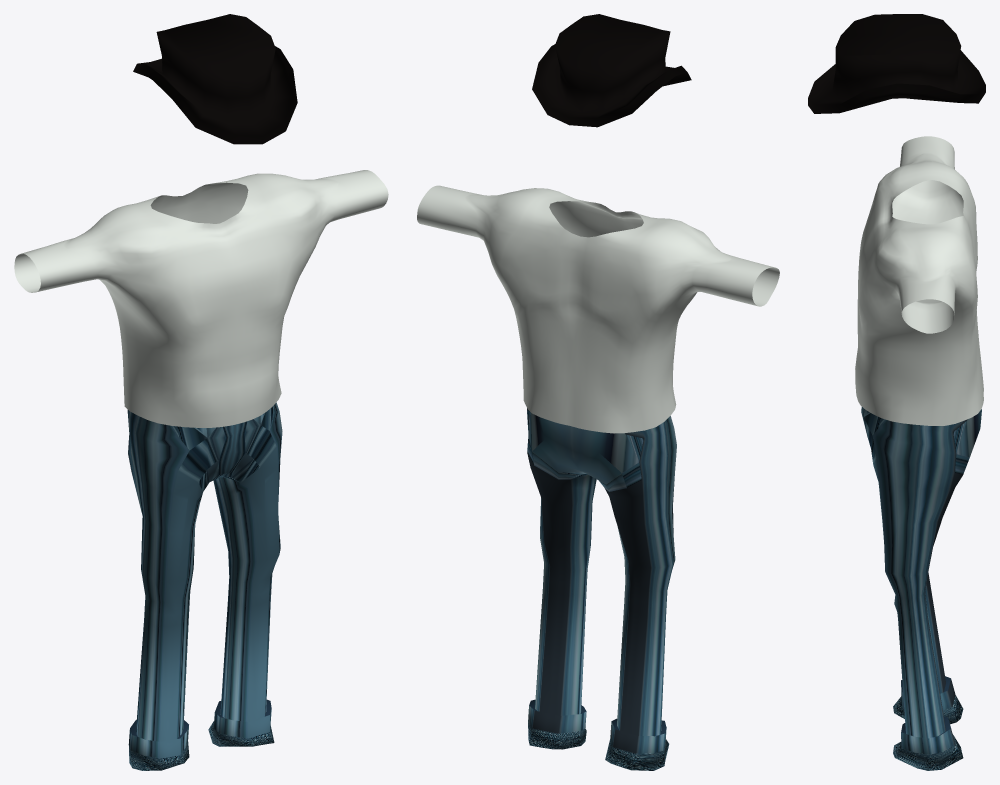
The model's file is bone_daddy.fbx.
3 views of the same model, side by side, from view 1: azimuth 30°, elevation 25°; view 2: azimuth 150°, elevation 25°; view 3: azimuth 270°, elevation 25° (orthographic). The views are drawn at different scales.
Parts seen in each view (by area): view 1: 白T, パンツ.001, hat; view 2: 白T, パンツ.001, hat; view 3: 白T, パンツ.001, hat.
Part boxes in pixels (<box>): 白T: <box>14,170,388,427</box>; パンツ.001: <box>127,402,282,770</box>; hat: <box>133,14,297,144</box>; 白T: <box>417,185,779,433</box>; パンツ.001: <box>527,408,676,770</box>; hat: <box>532,14,691,127</box>; 白T: <box>855,136,983,425</box>; パンツ.001: <box>861,407,981,770</box>; hat: <box>808,14,985,113</box>.
Bounding box in the file's own units: 30.27 × 60.31 × 13.8.
